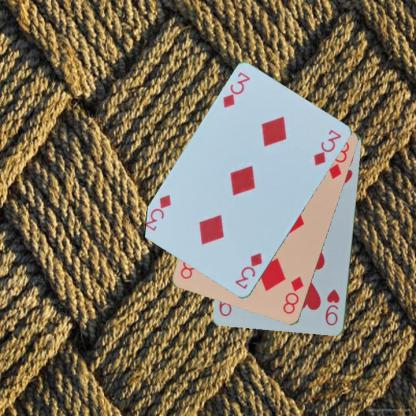3d: (232, 250, 264, 291), (220, 69, 252, 110)
8d: (280, 274, 305, 315)
9h: (322, 287, 341, 327)
